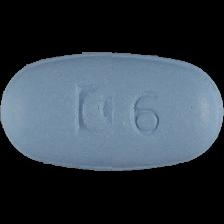63459-416: (0, 0, 224, 224)
